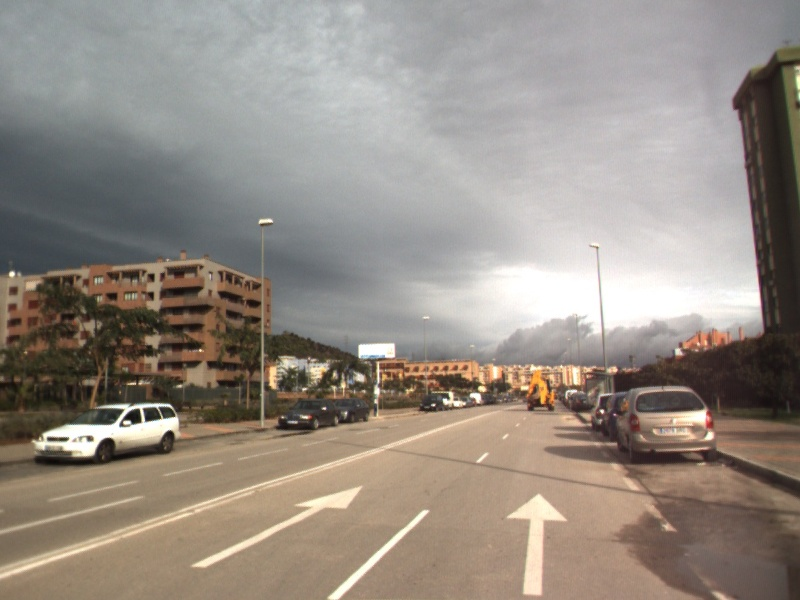STRAIGHT: (188, 484, 364, 570), (505, 491, 569, 597)
